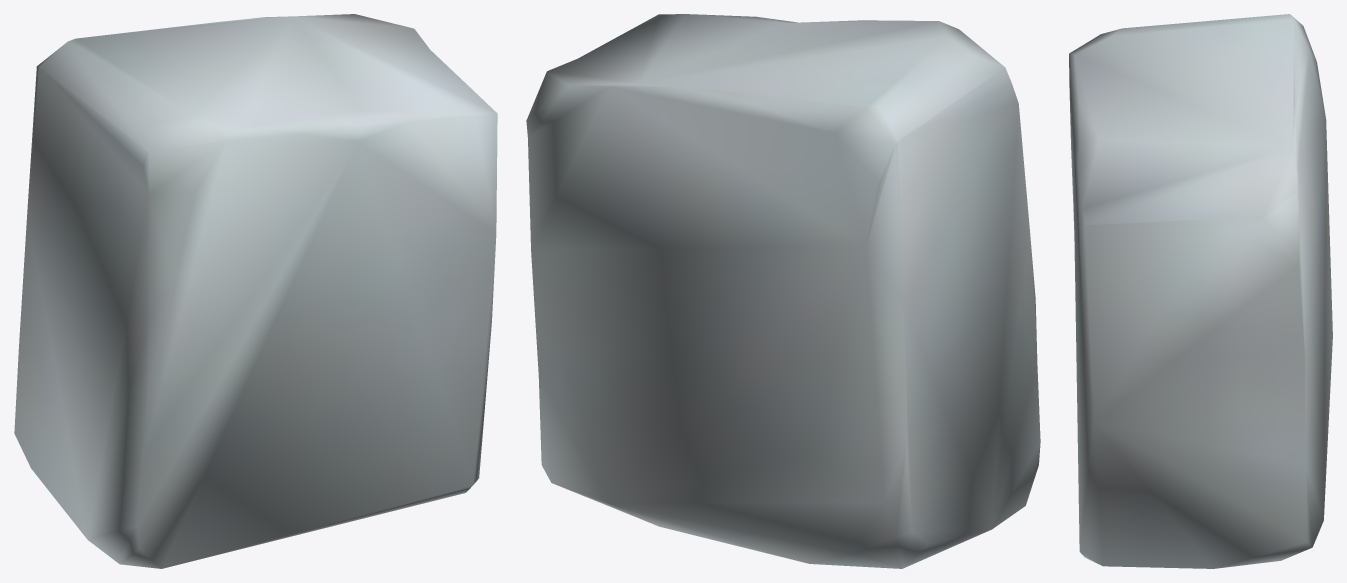
File: P_CubicCliffPiece01.obj
3 views of the same model, side by side, from view 1: azimuth 30°, elevation 25°; view 2: azimuth 150°, elevation 25°; view 3: azimuth 270°, elevation 25° (orthographic). The views are drawn at different scales.
Size of the model in its own units: 4.79 by 5.37 by 3.11.
